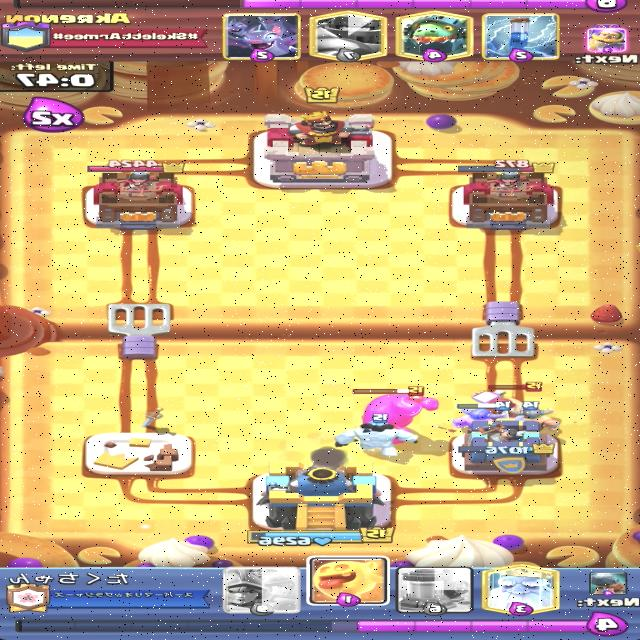Enemy-ElixirGolem: (352, 385, 441, 445)
Enemy-Lumberjack: (469, 381, 545, 418)
Player-EliteBarbarian: (450, 399, 511, 438), (502, 400, 560, 435)
Player-IceGolem: (331, 412, 420, 458)
